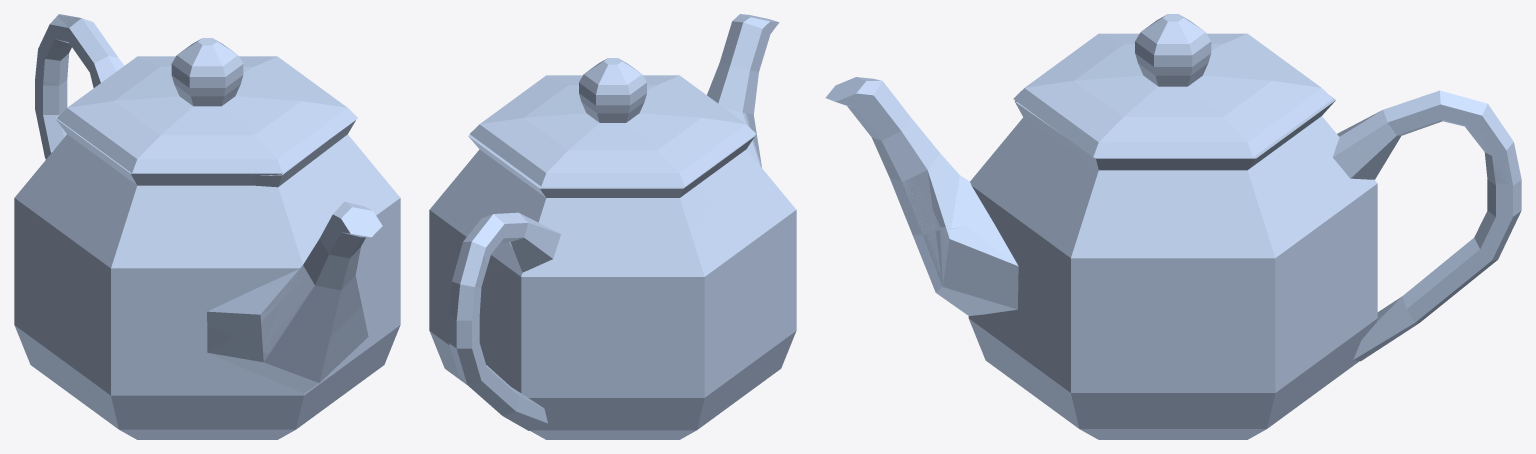
The model's file is teapot.fbx.
The picture shows the model from 3 angles, left to right: view 1: azimuth 30°, elevation 25°; view 2: azimuth 150°, elevation 25°; view 3: azimuth 270°, elevation 25°; orthographic projection. The views are drawn at different scales.
Visible parts, largest first — view 1: Cylinder, Cylinder.002, Cylinder.003, Cylinder_cell.003, Cylinder.001, Cylinder_cell, Cylinder.003_cell.002, Cylinder_cell.006, Cylinder.003_cell, Cylinder_cell.001, Cylinder.001_cell.002, Cylinder.002_cell (+4 smaller); view 2: Cylinder, Cylinder.002, Cylinder.001, Cylinder_cell, Cylinder_cell.007, Cylinder_cell.004, Cylinder.003, Cylinder.001_cell, Cylinder_cell.003, Cylinder.002_cell.002, Cylinder.001_cell.002, Cylinder_cell.008 (+5 smaller); view 3: Cylinder, Cylinder.002, Cylinder.003, Cylinder.001, Cylinder_cell.001, Cylinder_cell.006, Cylinder.003_cell.002, Cylinder.001_cell, Cylinder_cell.008, Cylinder.002_cell.002, Cylinder_cell.005, Cylinder_cell.009 (+4 smaller).
Boxes of the visible parts, x1=… form: Cylinder: x1=14, y1=114, x2=400, y2=439; Cylinder.002: x1=57, y1=38, x2=357, y2=173; Cylinder.003: x1=207, y1=201, x2=382, y2=392; Cylinder_cell.003: x1=45, y1=161, x2=301, y2=330; Cylinder.001: x1=35, y1=14, x2=124, y2=158; Cylinder_cell: x1=15, y1=285, x2=118, y2=429; Cylinder.003_cell.002: x1=207, y1=307, x2=368, y2=393; Cylinder_cell.006: x1=298, y1=325, x2=400, y2=412; Cylinder.003_cell: x1=252, y1=208, x2=381, y2=350; Cylinder_cell.001: x1=252, y1=120, x2=400, y2=262; Cylinder.001_cell.002: x1=50, y1=15, x2=121, y2=85; Cylinder.002_cell: x1=171, y1=71, x2=239, y2=106; Cylinder: x1=429, y1=134, x2=796, y2=439; Cylinder.002: x1=470, y1=58, x2=755, y2=186; Cylinder.001: x1=449, y1=212, x2=560, y2=426; Cylinder_cell: x1=705, y1=271, x2=796, y2=422; Cylinder_cell.007: x1=492, y1=327, x2=705, y2=439; Cylinder_cell.004: x1=614, y1=154, x2=744, y2=375; Cylinder.003: x1=707, y1=14, x2=779, y2=167; Cylinder.001_cell: x1=449, y1=310, x2=547, y2=430; Cylinder_cell.003: x1=731, y1=136, x2=796, y2=314; Cylinder.002_cell.002: x1=488, y1=98, x2=578, y2=163; Cylinder.001_cell.002: x1=474, y1=213, x2=560, y2=272; Cylinder_cell.008: x1=429, y1=271, x2=491, y2=336; Cylinder: x1=968, y1=100, x2=1377, y2=439; Cylinder.002: x1=1013, y1=14, x2=1332, y2=157; Cylinder.003: x1=825, y1=77, x2=1018, y2=315; Cylinder.001: x1=1333, y1=90, x2=1521, y2=361; Cylinder_cell.001: x1=971, y1=101, x2=1211, y2=317; Cylinder_cell.006: x1=968, y1=282, x2=1171, y2=439; Cylinder.003_cell.002: x1=913, y1=226, x2=1018, y2=311; Cylinder.001_cell: x1=1355, y1=180, x2=1521, y2=360; Cylinder_cell.008: x1=1185, y1=285, x2=1338, y2=427; Cylinder.002_cell.002: x1=1152, y1=95, x2=1299, y2=142; Cylinder_cell.005: x1=1268, y1=95, x2=1377, y2=207; Cylinder_cell.009: x1=1130, y1=146, x2=1297, y2=324.
Bounding box in the file's own units: 30.66 × 35.09 × 60.23.
